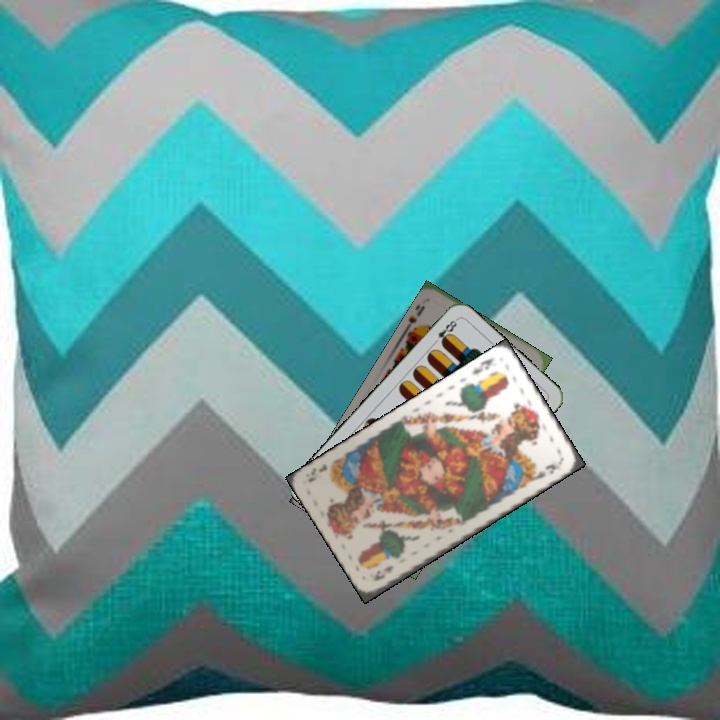E8: (428, 315, 460, 348)
EK: (468, 354, 497, 378), (369, 561, 396, 584)
S9: (405, 301, 427, 337)
